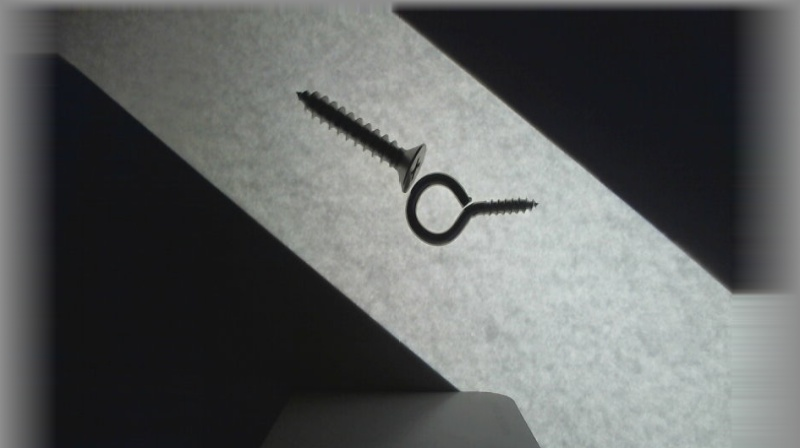O001: (404, 170, 541, 247)
S001: (292, 88, 427, 193)
